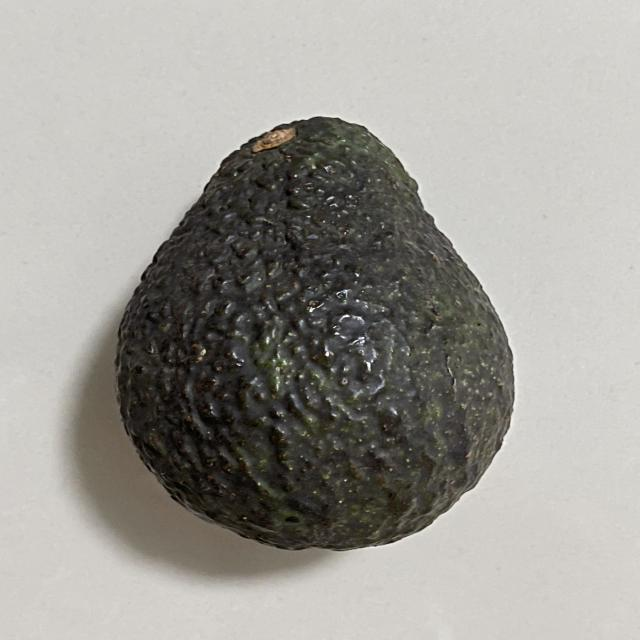Level1: (106, 99, 532, 568)
